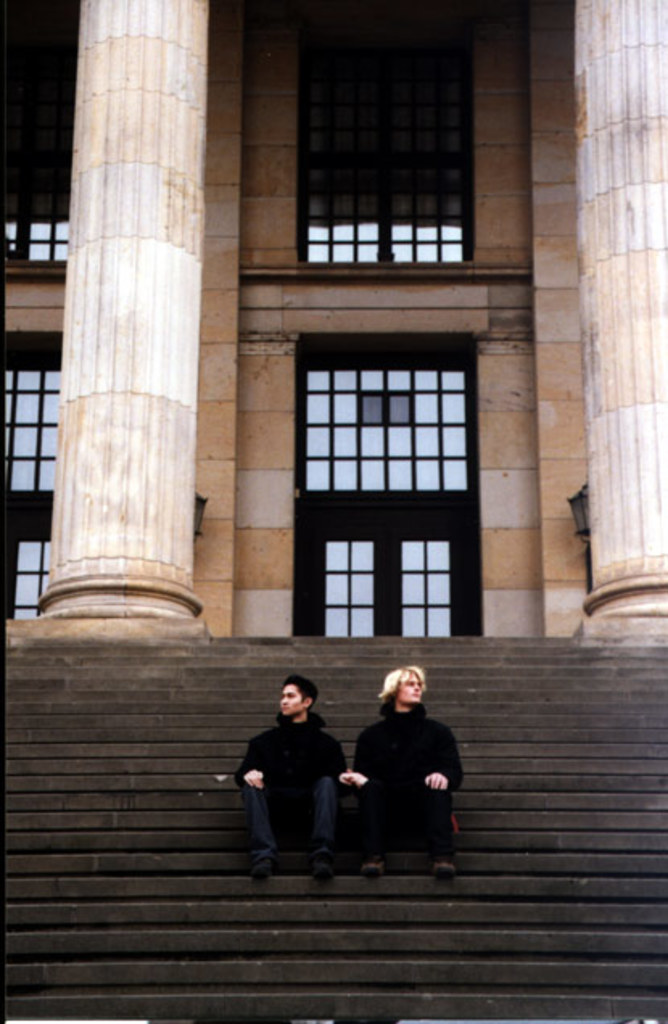door: (304, 518, 388, 636), (396, 513, 468, 650)
